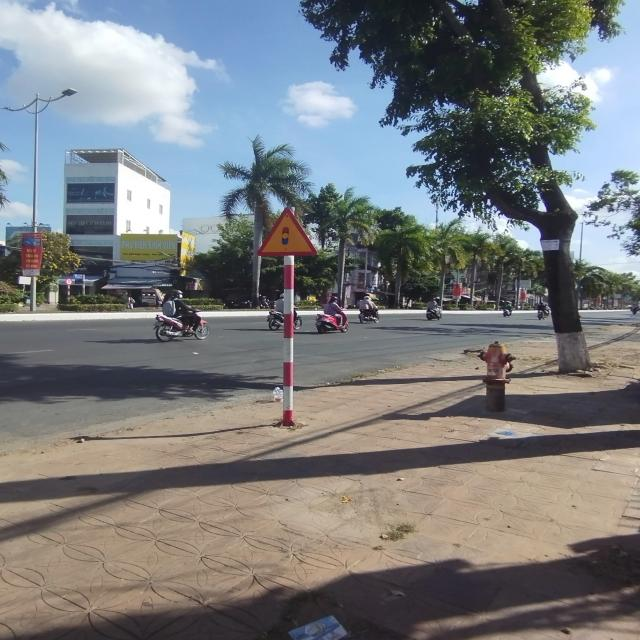Duong_Co_Go_Giam_Toc: (256, 208, 320, 256)
